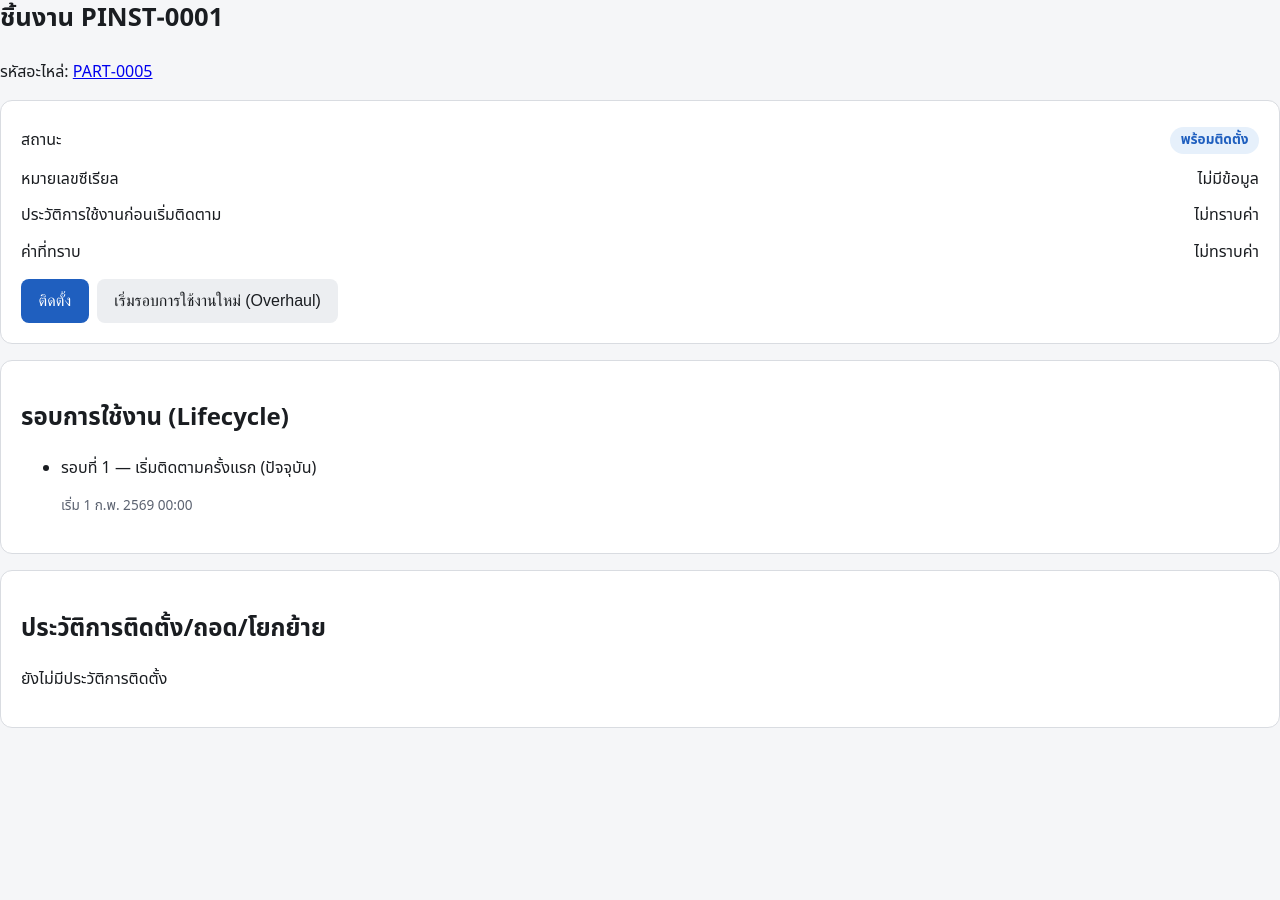
Scenario: PartInstanceDetailPage › installs the instance onto a vehicle
The width and height of the screenshot is (1280, 900).
Step 1. Click the button "ติดตั้ง" → x=55, y=300, box [21,278,89,322]
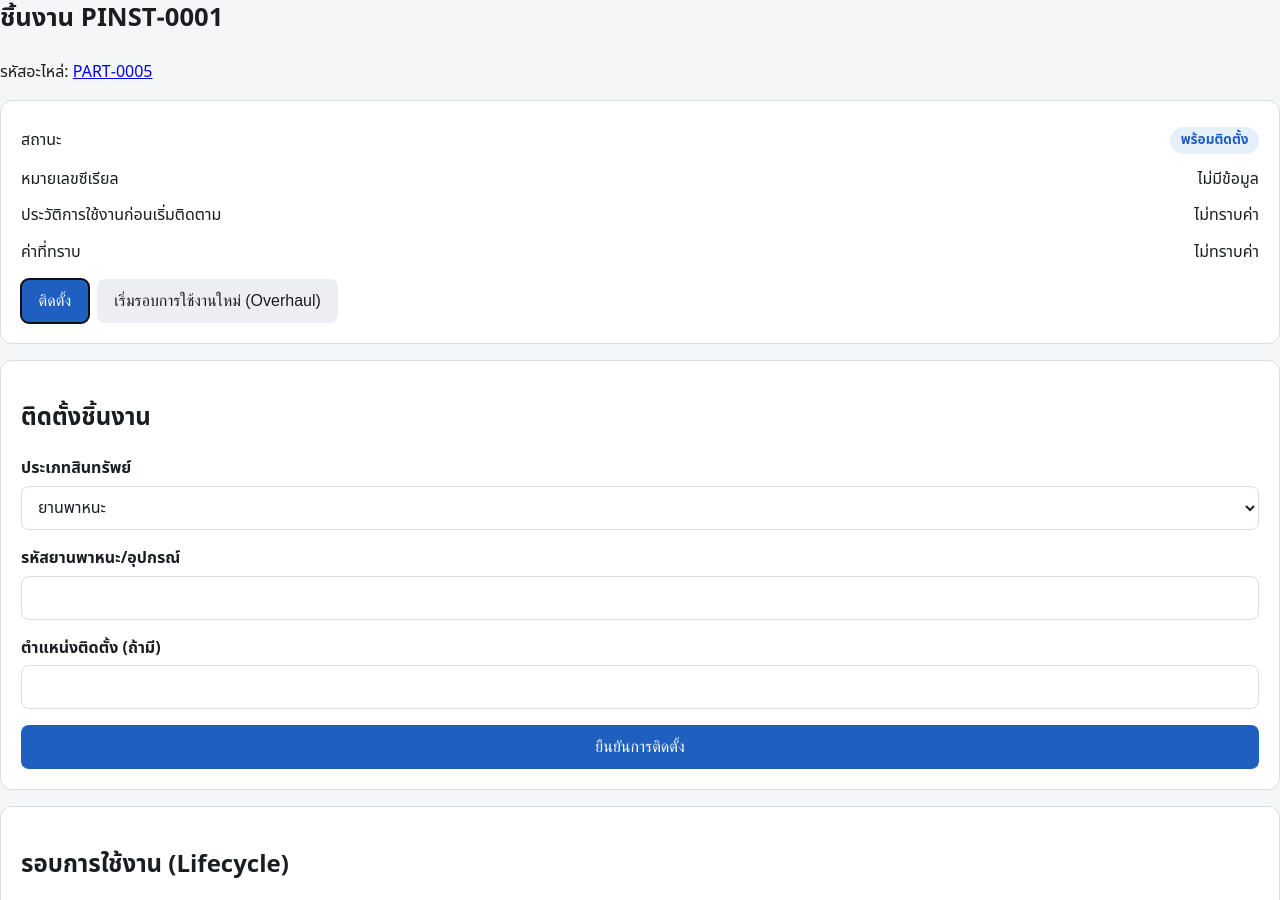
Step 2. Type "VEH-1046" into the field labelled "รหัสยานพาหนะ/อุปกรณ์" → x=640, y=598, box [21,576,1259,620]
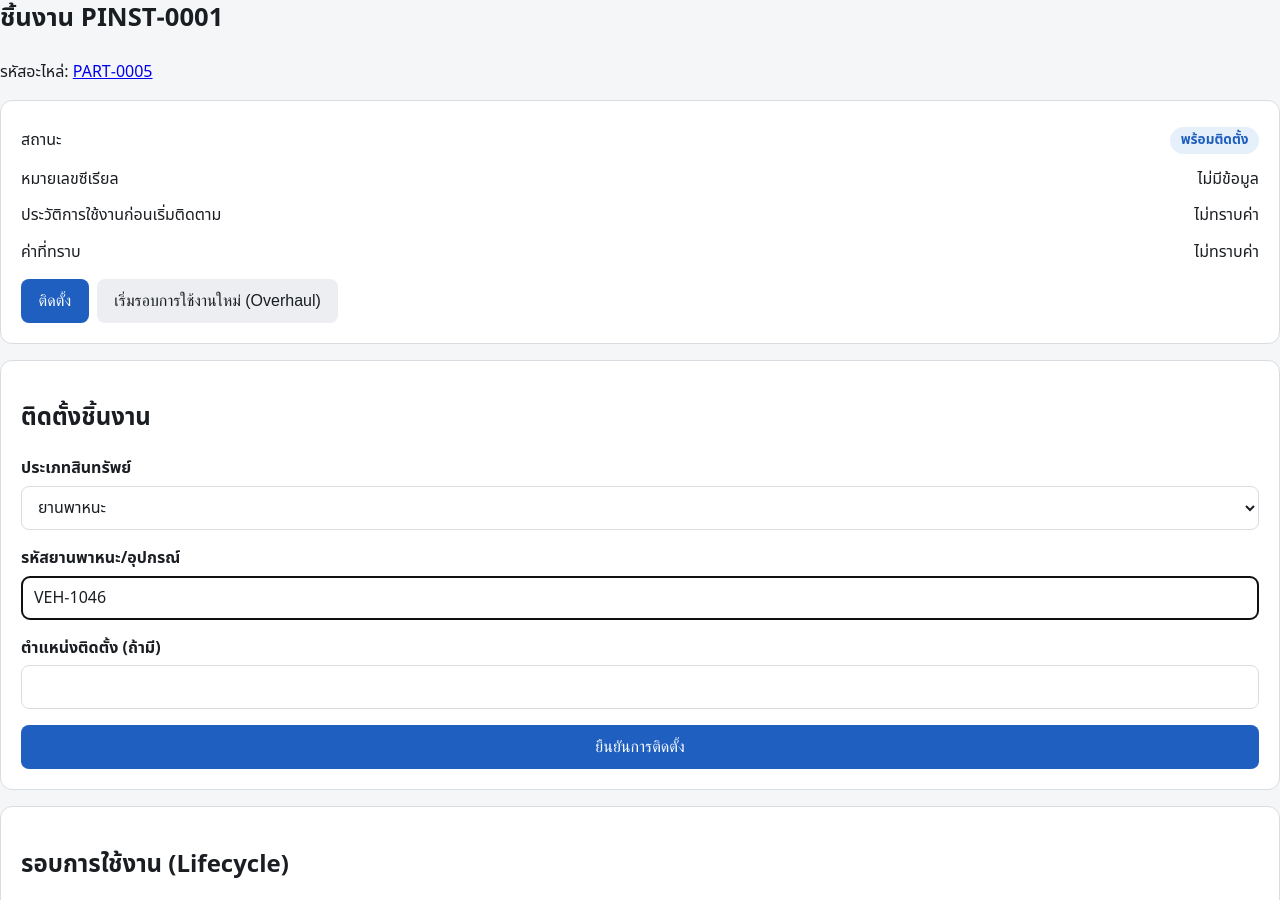
Step 3. Click the button "ยืนยันการติดตั้ง" → x=640, y=747, box [21,725,1259,769]
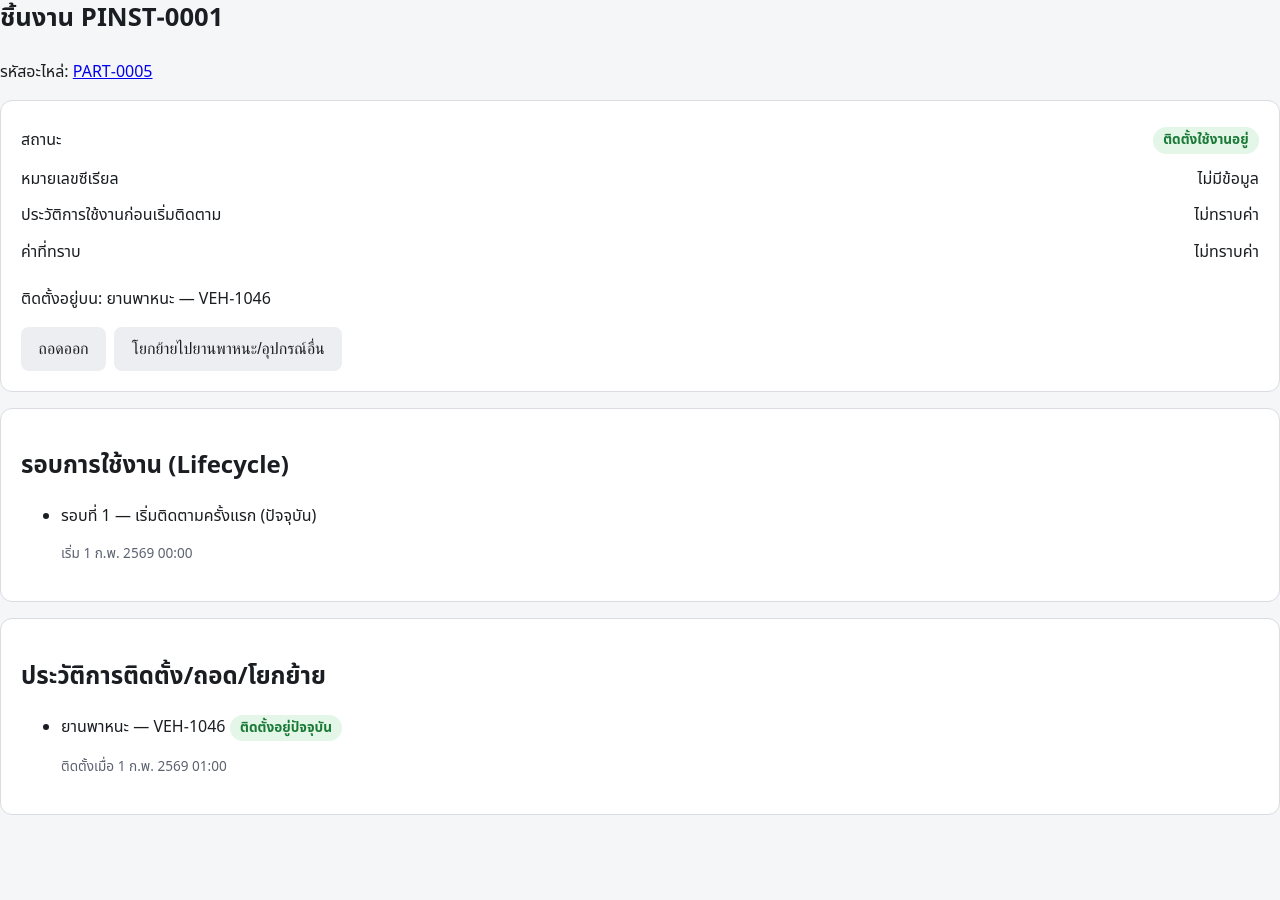
Expected: the text "ติดตั้งใช้งานอยู่" is shown, [1153,127,1259,154]
